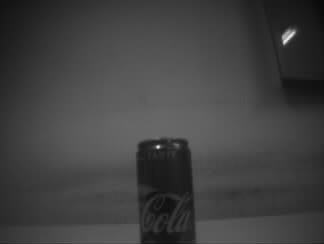Tin can: (133, 135, 196, 244)
